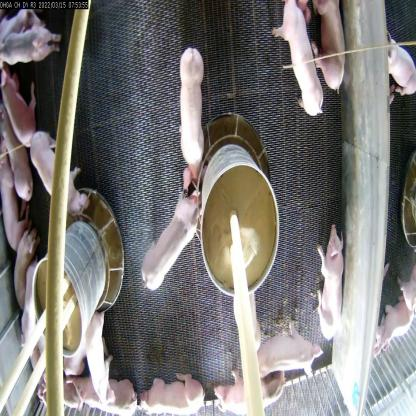Pig: (136, 188, 206, 302), (269, 2, 322, 134), (172, 44, 206, 181), (37, 128, 87, 218), (250, 323, 318, 384), (312, 223, 348, 338), (74, 302, 113, 408), (305, 0, 348, 93), (213, 363, 288, 416), (67, 369, 141, 415), (146, 367, 214, 415)
